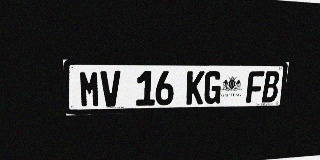1: (136, 71, 155, 106)
6: (155, 71, 174, 105)
B: (262, 71, 280, 102)
F: (246, 71, 265, 103)
G: (203, 71, 222, 104)
K: (186, 71, 205, 105)
M: (79, 71, 101, 107)
V: (100, 71, 121, 107)
